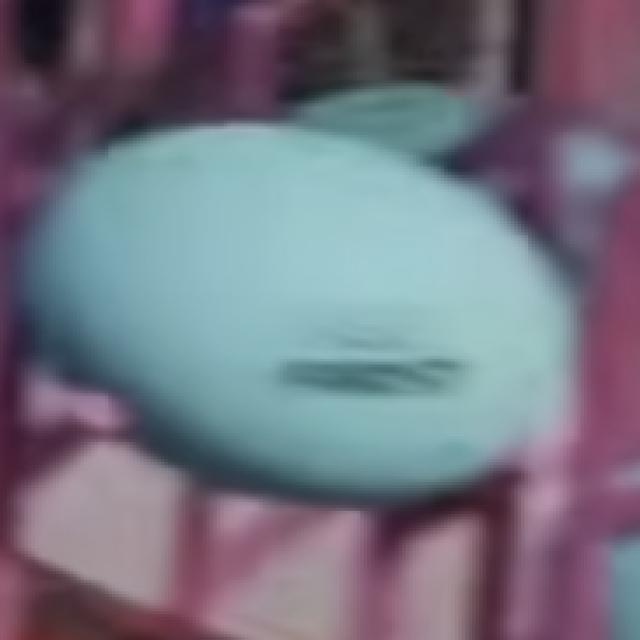Algae: (20, 128, 584, 503), (290, 85, 620, 203)
Reef: (199, 508, 332, 593), (396, 464, 524, 544), (24, 394, 132, 477)
